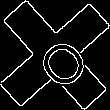O_NW: (22, 22, 88, 88)
